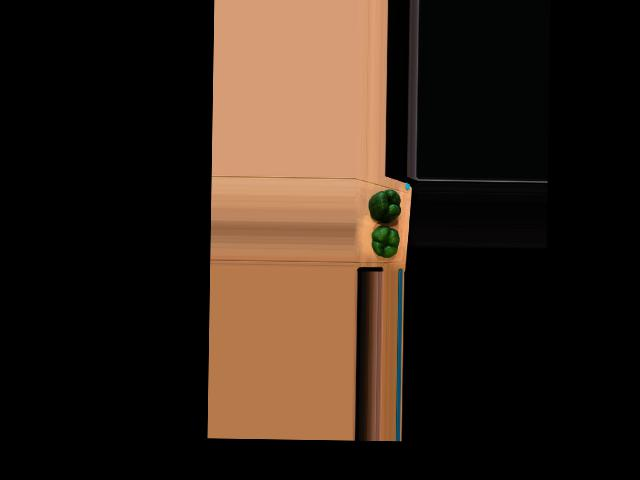bell_pepper: (367, 224, 400, 257)
